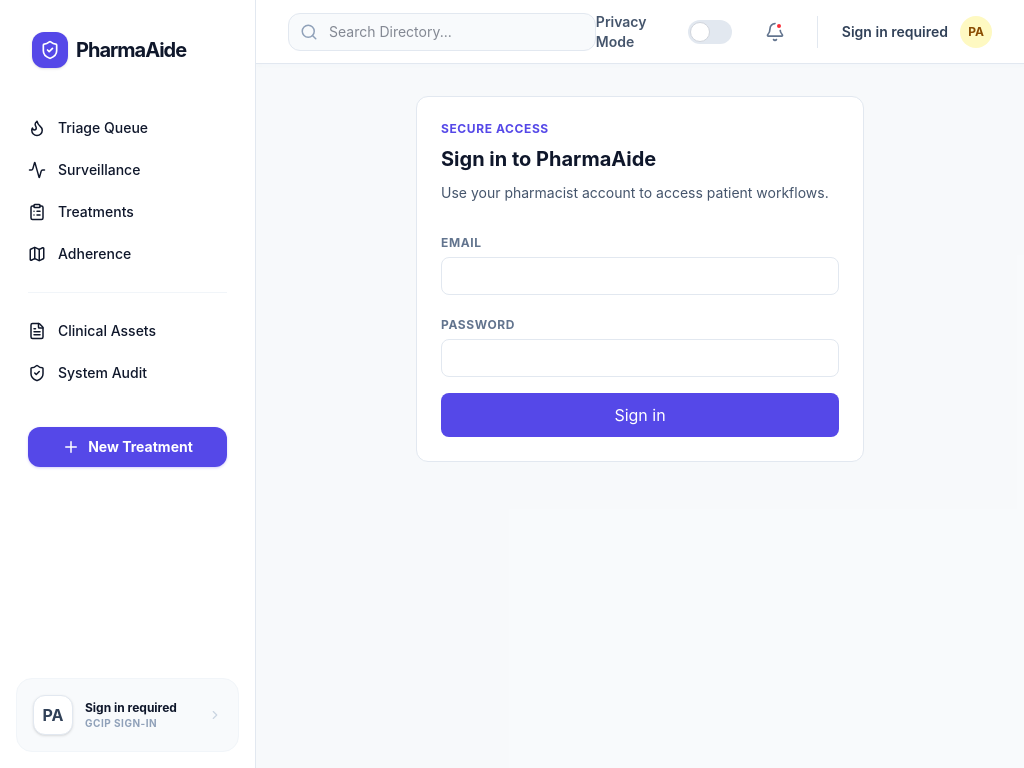
Test: DashboardApp auth state › shows protected content after GCIP email sign-in succeeds
This screenshot has width=1024, height=768.
Expected: the heading "Sign in to PharmaAide" is shown, [441,147,656,171]
Expected: the text "Protected content" is not shown
Type "pharmacist@example.com" into the field labelled "Email" at x=640, y=276, box [441,257,839,295]
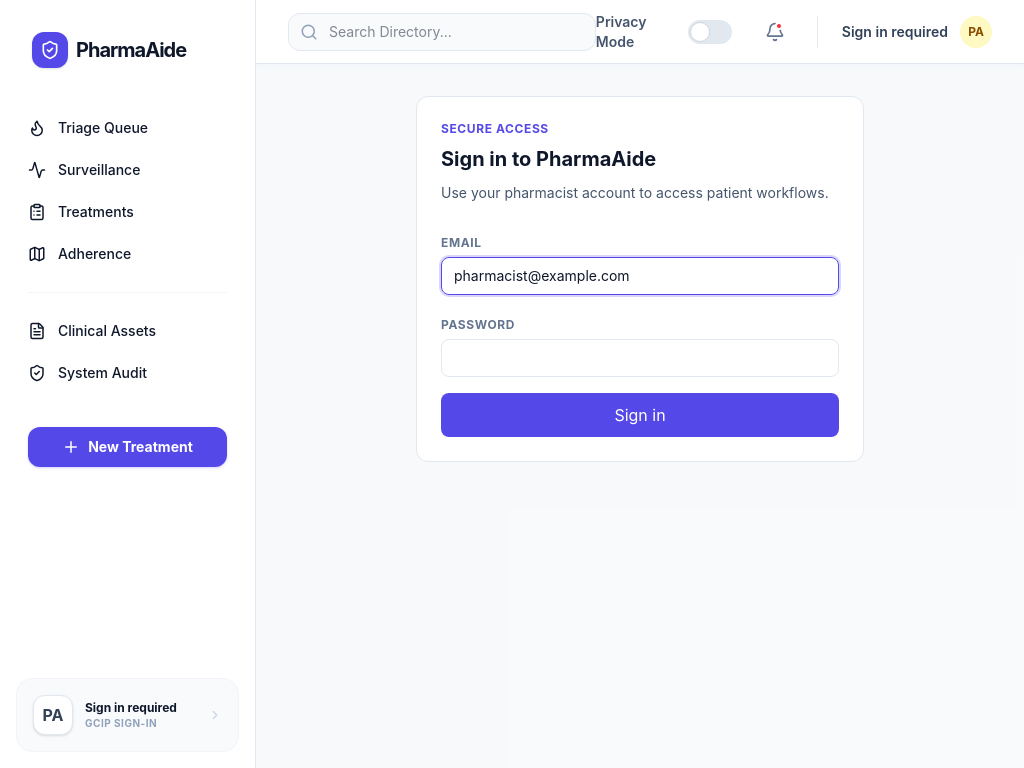
Type "correct-password" into the password field labelled "Password" at x=640, y=358, box [441,339,839,377]
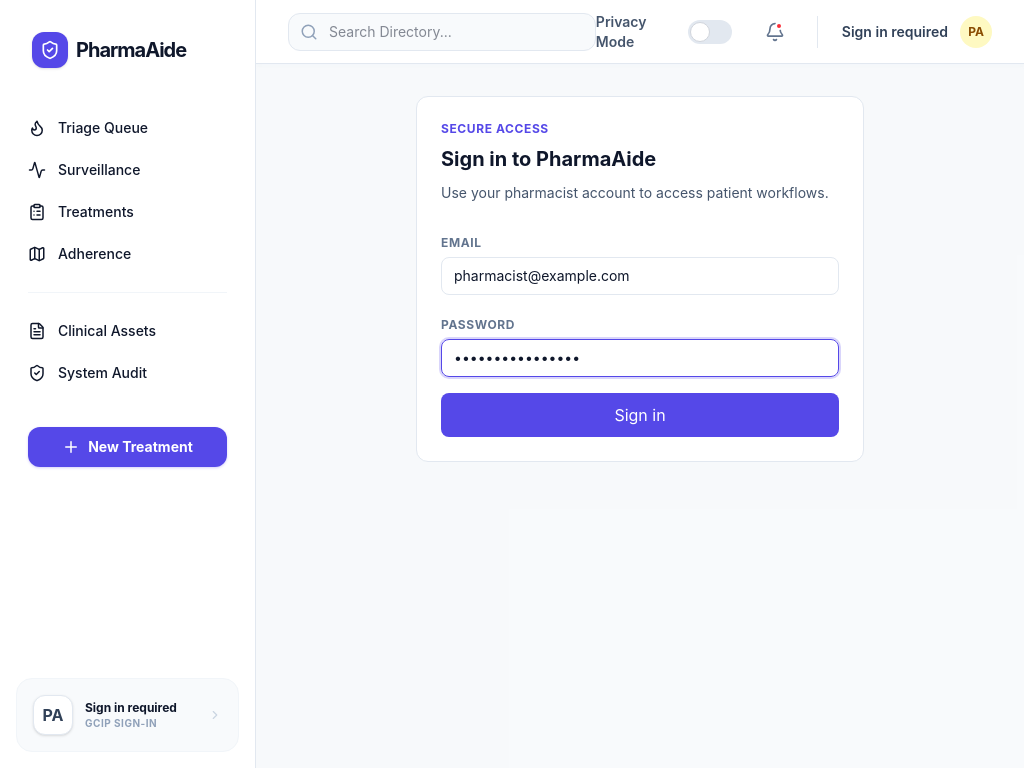
Click the button "Sign in" at x=640, y=415, box [441,393,839,437]
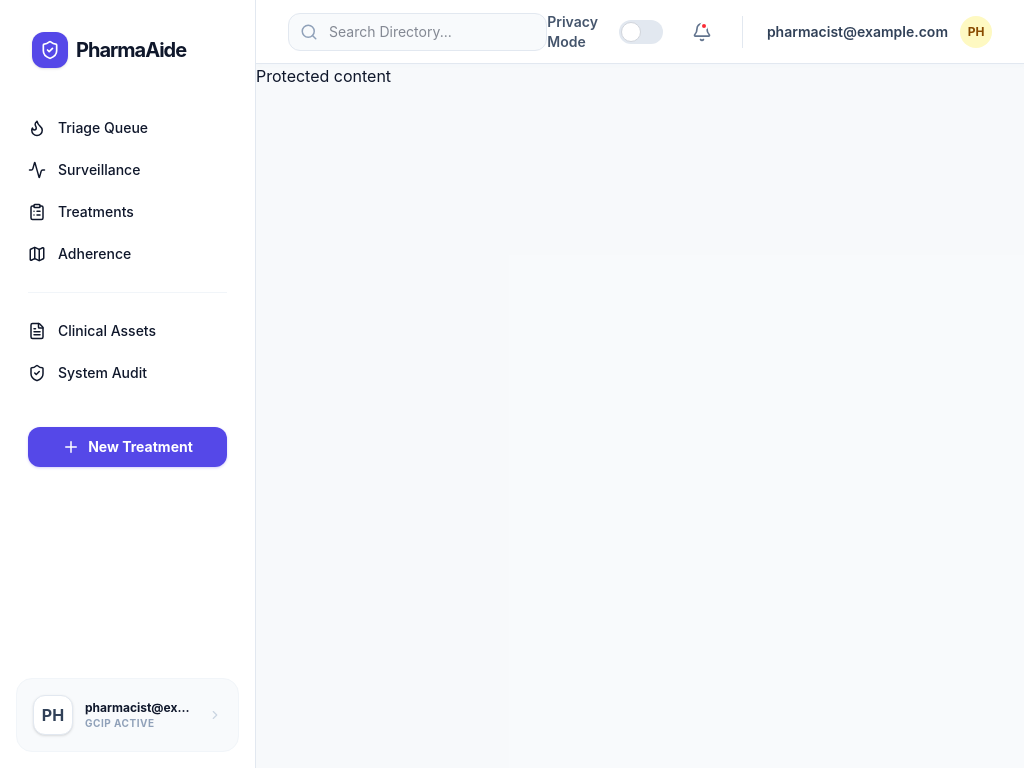
Expected: the text "Protected content" is shown, [256,66,391,86]
